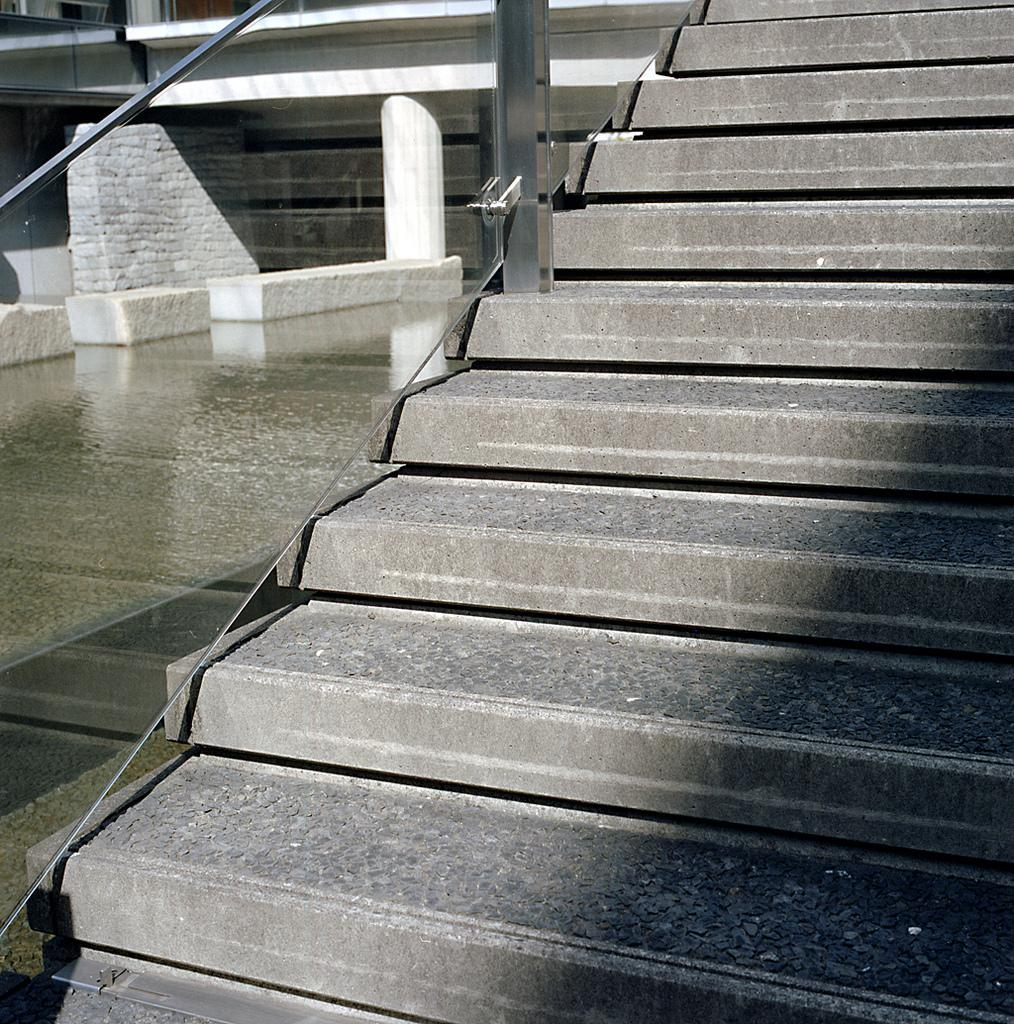stairs: (58, 9, 1007, 1012)
